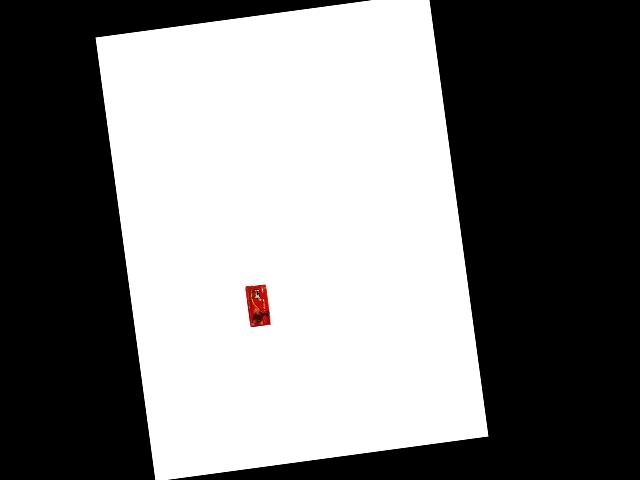chocolate: (242, 281, 271, 328)
